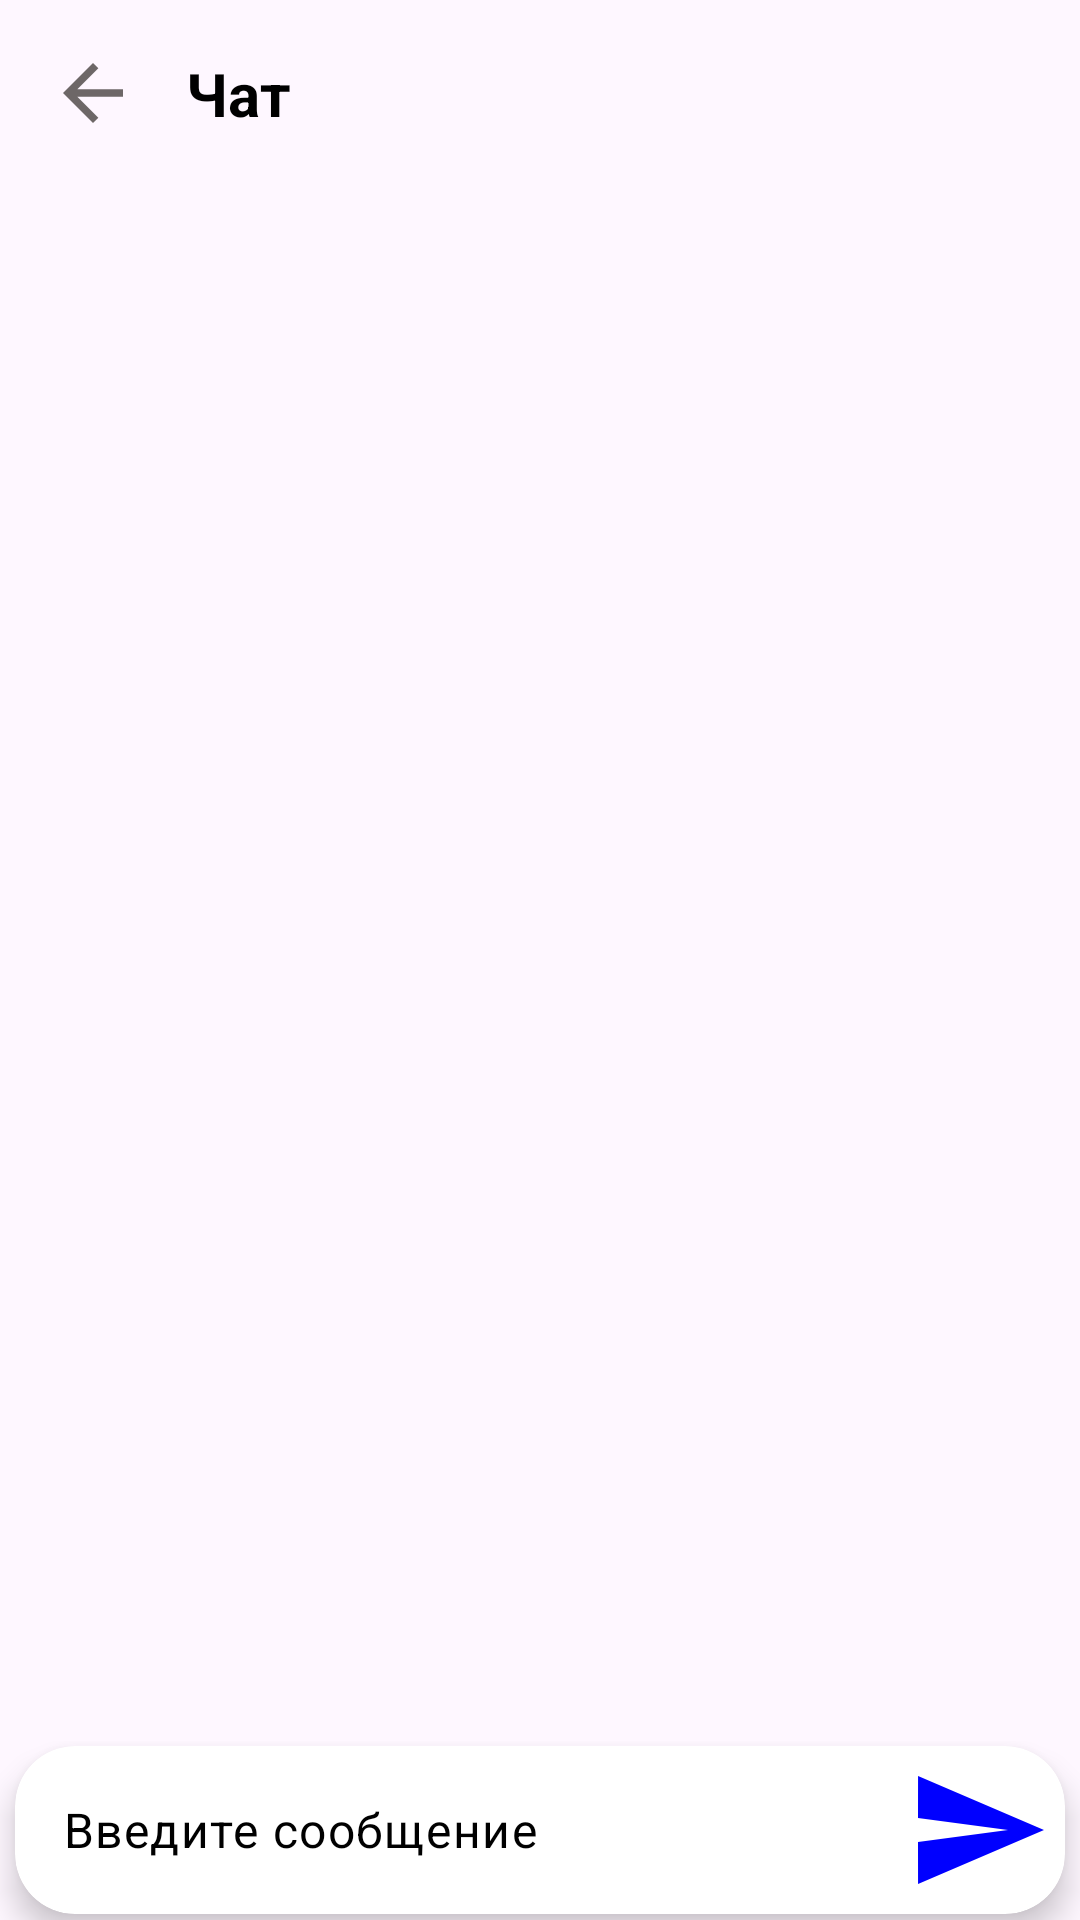

Point at icon controls on the screen. Image size 1080w x 1920h, points as [x,y].
Назад: [93,93]
Отправить: [978,1830]
